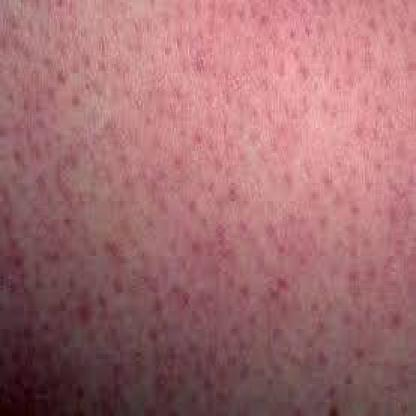Chicken Skin: (1, 0, 416, 416)
